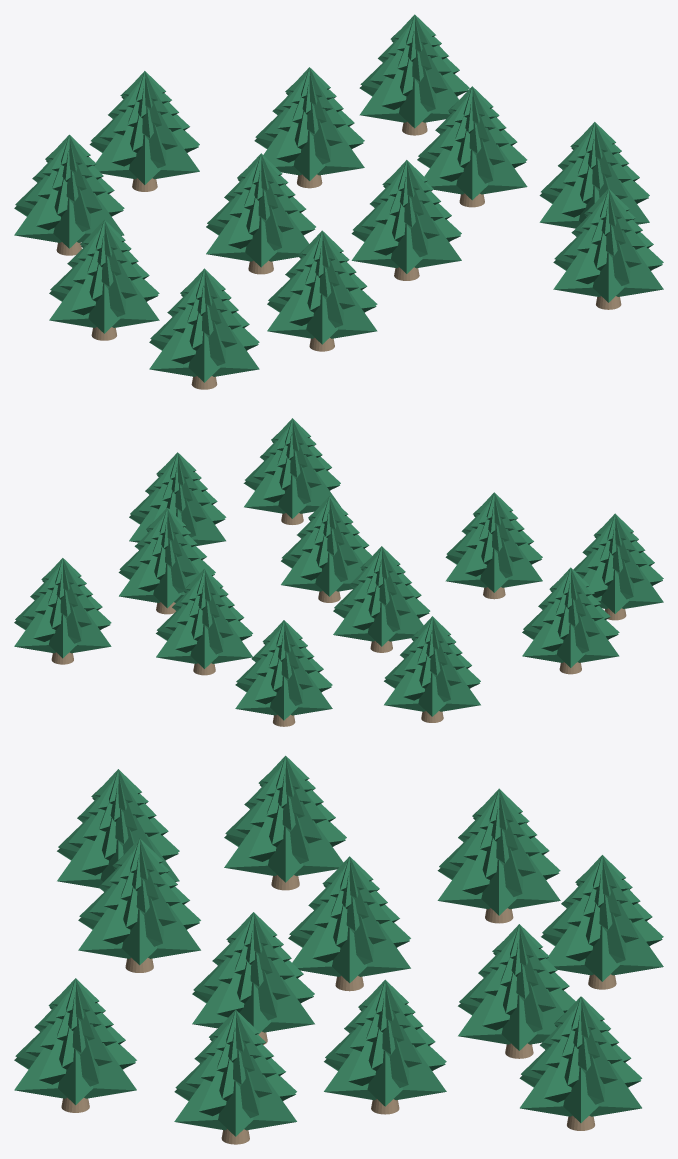
3 views of the same model, one above another, from view 1: azimuth 30°, elevation 25°; view 2: azimuth 150°, elevation 25°; view 3: azimuth 270°, elevation 25° (orthographic). The views are drawn at different scales.
Parts seen in each view (by area): view 1: Mesh_Mesh_head_geo.001_lambert2SG.001; view 2: Mesh_Mesh_head_geo.001_lambert2SG.001; view 3: Mesh_Mesh_head_geo.001_lambert2SG.001.
Boxes of the visible parts, box(x1,y1,x2,y2) form: Mesh_Mesh_head_geo.001_lambert2SG.001: box(14, 14, 663, 389); Mesh_Mesh_head_geo.001_lambert2SG.001: box(14, 418, 663, 726); Mesh_Mesh_head_geo.001_lambert2SG.001: box(14, 755, 663, 1144).
Size of the model in its own units: 0.209 by 0.04 by 0.1826.
